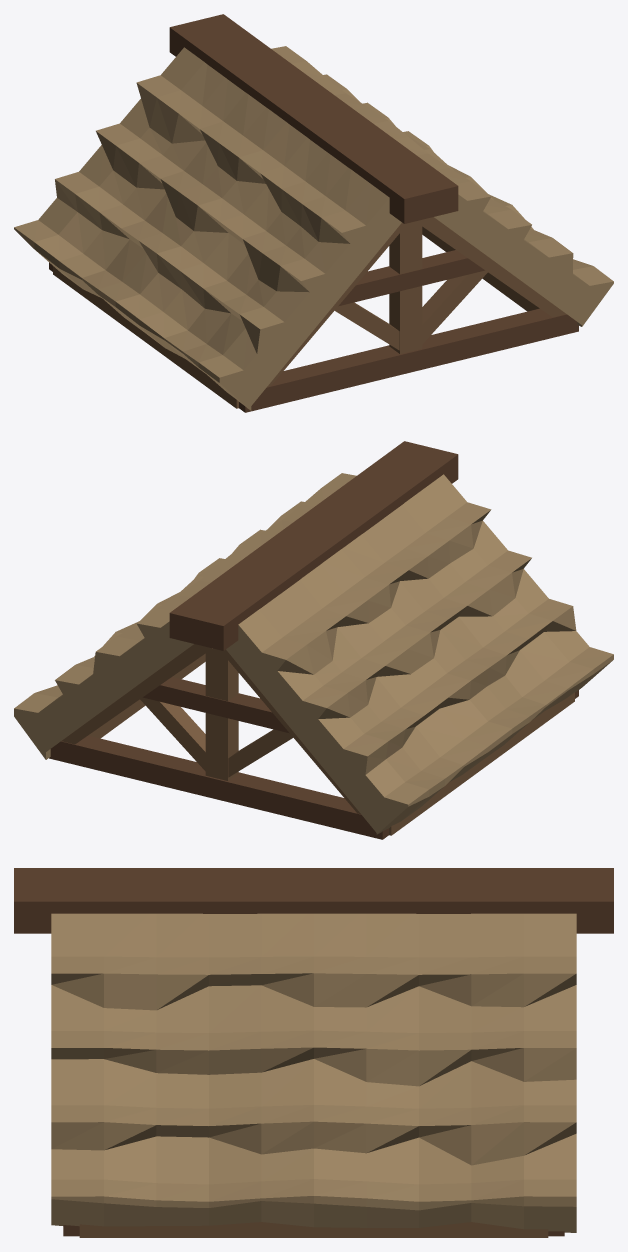
The model's file is stage0_gable_roof_section.glb.
3 views of the same model, one above another, from view 1: azimuth 30°, elevation 25°; view 2: azimuth 150°, elevation 25°; view 3: azimuth 270°, elevation 25° (orthographic). The views are drawn at different scales.
Parts seen in each view (by area): view 1: thatched-gable-roof-mesh; view 2: thatched-gable-roof-mesh; view 3: thatched-gable-roof-mesh.
Boxes of the visible parts, left/top/right/bottom form: thatched-gable-roof-mesh: left=14, top=14, right=613, bottom=412; thatched-gable-roof-mesh: left=14, top=441, right=613, bottom=839; thatched-gable-roof-mesh: left=14, top=868, right=613, bottom=1237.
Size of the model in its own units: 2.5 by 1.16 by 2.56.
